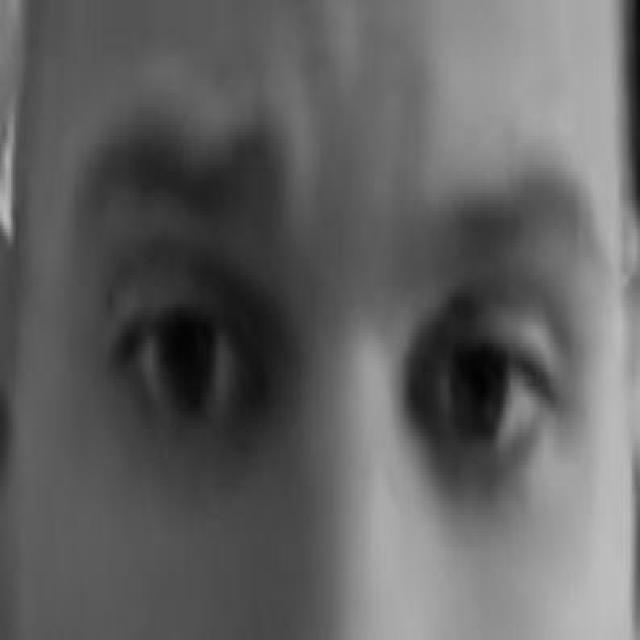real: (80, 144, 602, 544)
